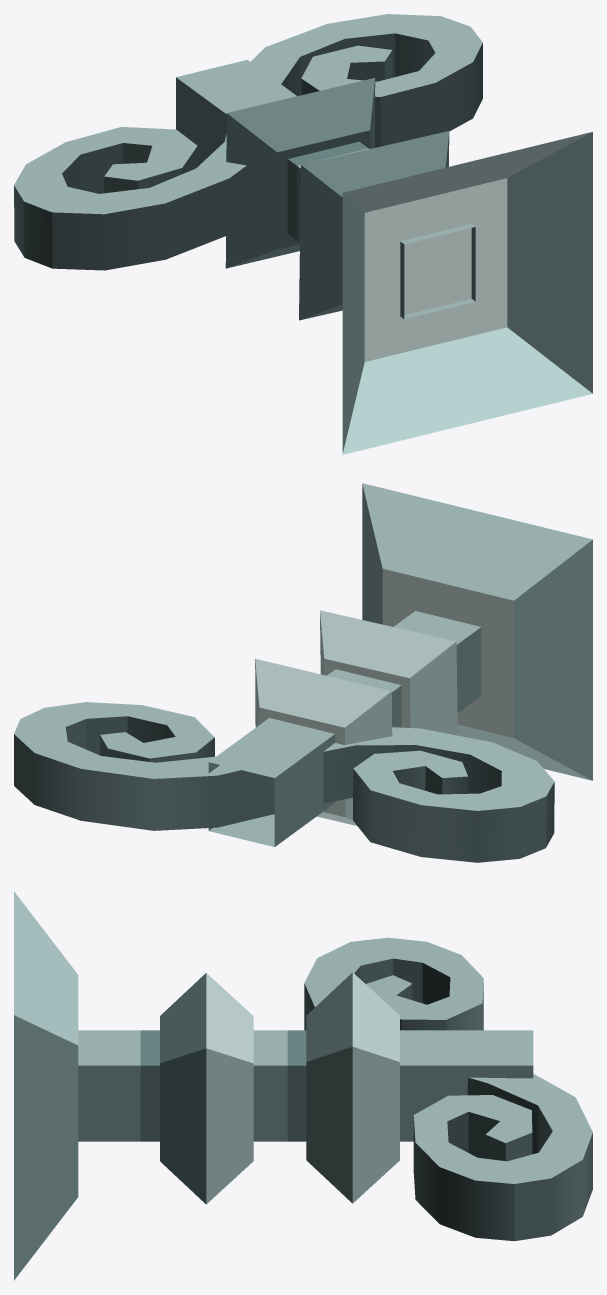
Rendered from HolidayCandleStickSilver.fbx.
The picture shows the model from 3 angles, top to bottom: view 1: azimuth 30°, elevation 25°; view 2: azimuth 150°, elevation 25°; view 3: azimuth 270°, elevation 25°; orthographic projection. The views are drawn at different scales.
Parts seen in each view (by area): view 1: HolidayCandleStickSilver; view 2: HolidayCandleStickSilver; view 3: HolidayCandleStickSilver.
Part boxes in pixels (left/top/right/bottom): HolidayCandleStickSilver: left=14, top=14, right=592, bottom=454; HolidayCandleStickSilver: left=14, top=483, right=592, bottom=862; HolidayCandleStickSilver: left=14, top=891, right=592, bottom=1280.
Bounding box in the file's own units: 62.55 × 30.79 × 60.8.
